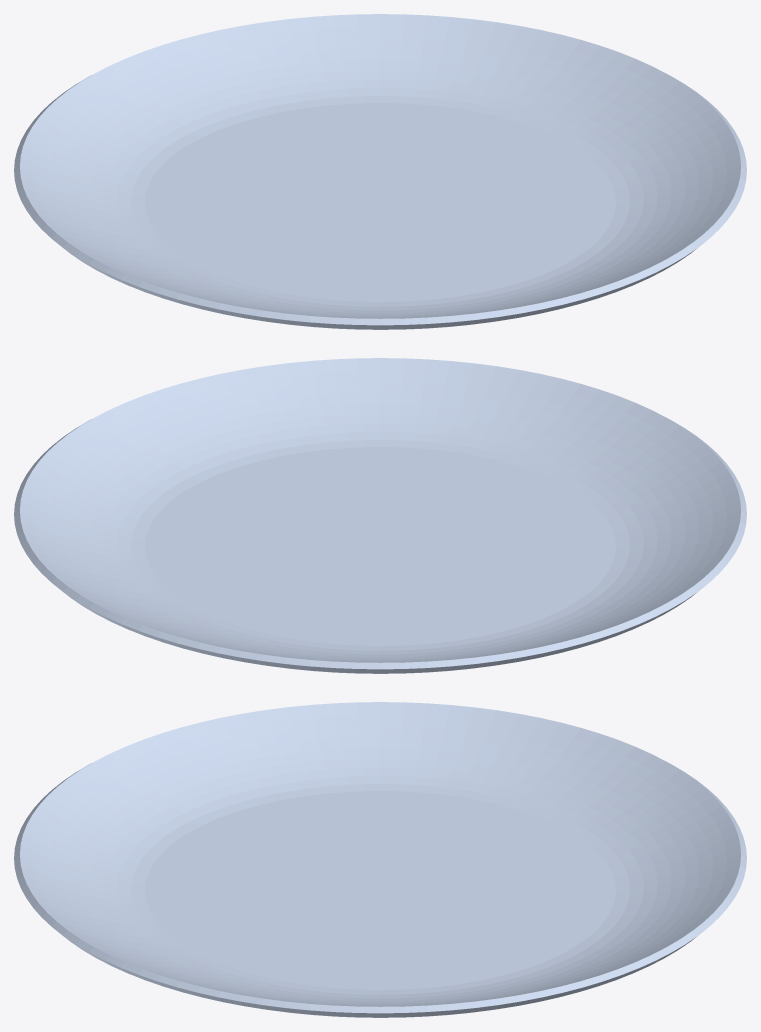
The model's file is plate.glb.
The picture shows the model from 3 angles, top to bottom: view 1: azimuth 30°, elevation 25°; view 2: azimuth 150°, elevation 25°; view 3: azimuth 270°, elevation 25°; orthographic projection.
Parts seen in each view (by area): view 1: geometry_0; view 2: geometry_0; view 3: geometry_0.
Boxes of the visible parts, x1,y1,x2,y2 form: geometry_0: [14, 14, 746, 329]; geometry_0: [14, 358, 746, 673]; geometry_0: [14, 702, 746, 1017].
Bounding box in the file's own units: 0.249 × 0.022 × 0.249.
